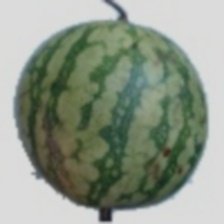watermelon: (6, 40, 190, 196)
